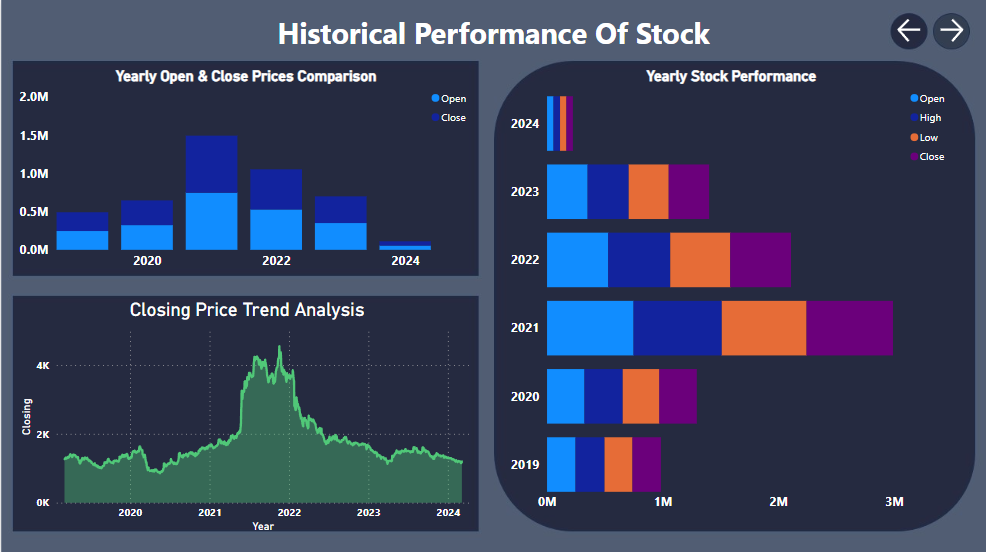

The page's visual inventory and layout, read from the dashboard file:
{"tool":"powerbi","page":{"name":"Historical Performance","canvas":[1280,720],"ordinal":2},"visuals":[{"type":"barChart","title":"Yearly Stock Performance","fields":{"Category":["LUXIND NS.Year"],"Y":["Sum(Lux Dataset.Open)","Sum(LUXIND NS.High)","Sum(LUXIND NS.Low)","Sum(Lux Dataset.Close)"]},"box":[657.1,87.1,582.9,585.7],"z":0},{"type":"columnChart","title":"Yearly Open & Close Prices Comparison","fields":{"Category":["LUXIND NS.Year"],"Y":["Sum(LUXIND NS.Open)","Sum(LUXIND NS.Close)"]},"box":[18.1,87.6,600.5,272.4],"z":1000},{"type":"areaChart","title":"Closing Price Trend Analysis","fields":{"Category":["Lux Dataset.Date.Variation.Date Hierarchy.Year","Lux Dataset.Date.Variation.Date Hierarchy.Quarter","Lux Dataset.Date.Variation.Date Hierarchy.Month","Lux Dataset.Date.Variation.Date Hierarchy.Day"],"Y":["Sum(Lux Dataset.Close)"]},"box":[20,388.6,600,308.6],"z":2000},{"type":"textbox","box":[20,11.4,1240,60],"z":3000},{"type":"actionButton","box":[1214.3,20,50,40],"z":4000},{"type":"actionButton","box":[1160,20,45.7,40],"z":5000}]}

Visuals, with their boxes in screenshot pixels (x1, y1, x2, y2), scaled from the page's 1280x720 canvas onto the 986x552 screenshot:
"Yearly Stock Performance" barChart: [left=506, top=67, right=955, bottom=516]
"Yearly Open & Close Prices Comparison" columnChart: [left=14, top=67, right=477, bottom=276]
"Closing Price Trend Analysis" areaChart: [left=15, top=298, right=478, bottom=535]
textbox: [left=15, top=9, right=971, bottom=55]
actionButton: [left=935, top=15, right=974, bottom=46]
actionButton: [left=894, top=15, right=929, bottom=46]
